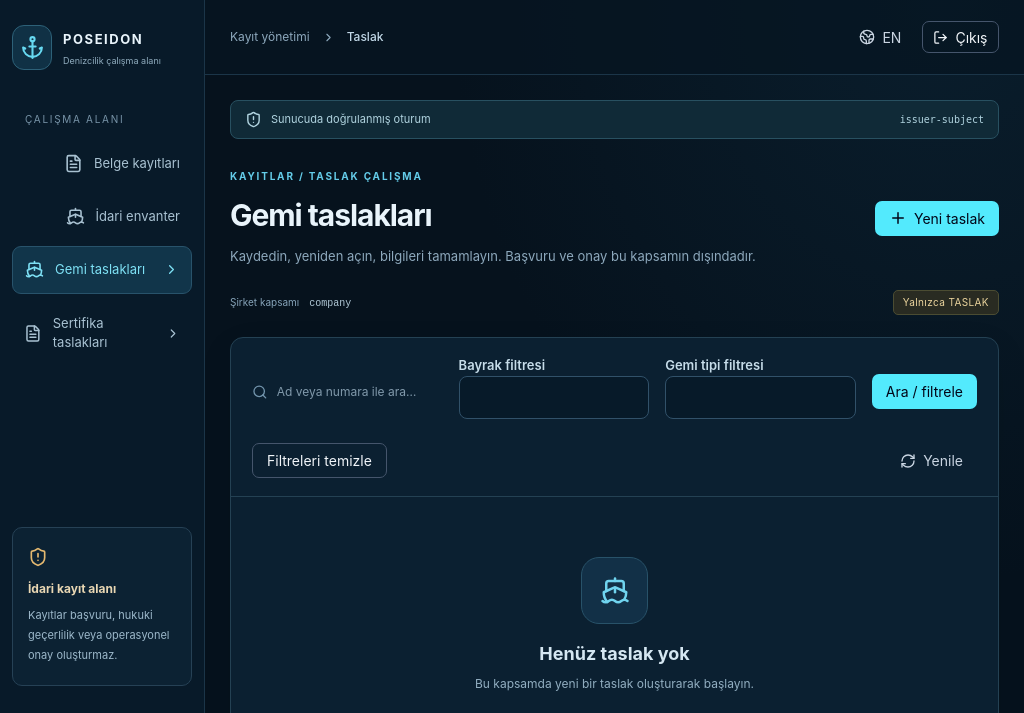
Scenario: BFF browser mode › does not clear edits or claim logout success on a network failure
Expected: the heading "Henüz taslak yok" is shown, [539, 643, 690, 664]
Click the button "Yeni taslak" at (937, 218), box [875, 201, 999, 236]
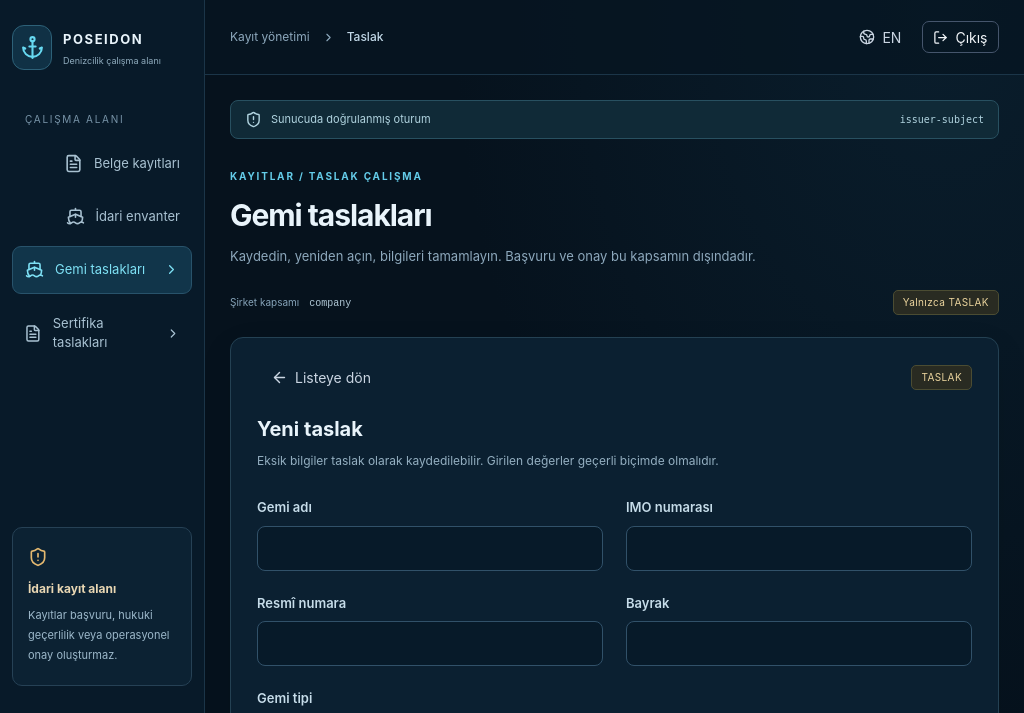
Type "Unsaved BFF" into the field labelled "Gemi adı" at (430, 548), box [257, 526, 603, 571]
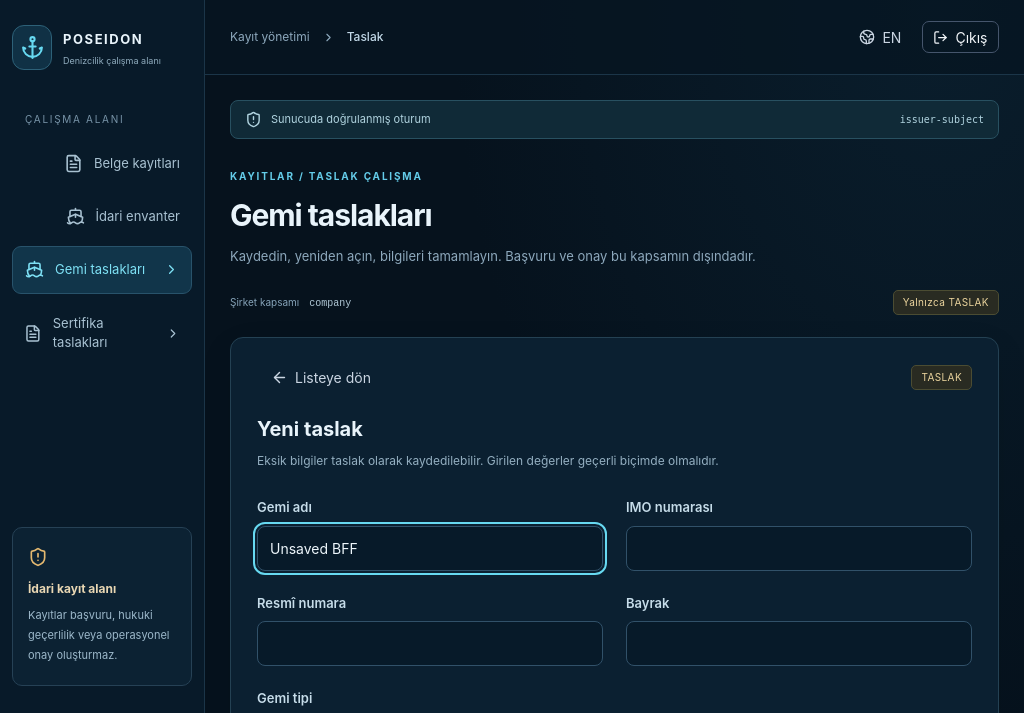
Click the button "Çıkış" at (960, 37), box [922, 21, 999, 53]
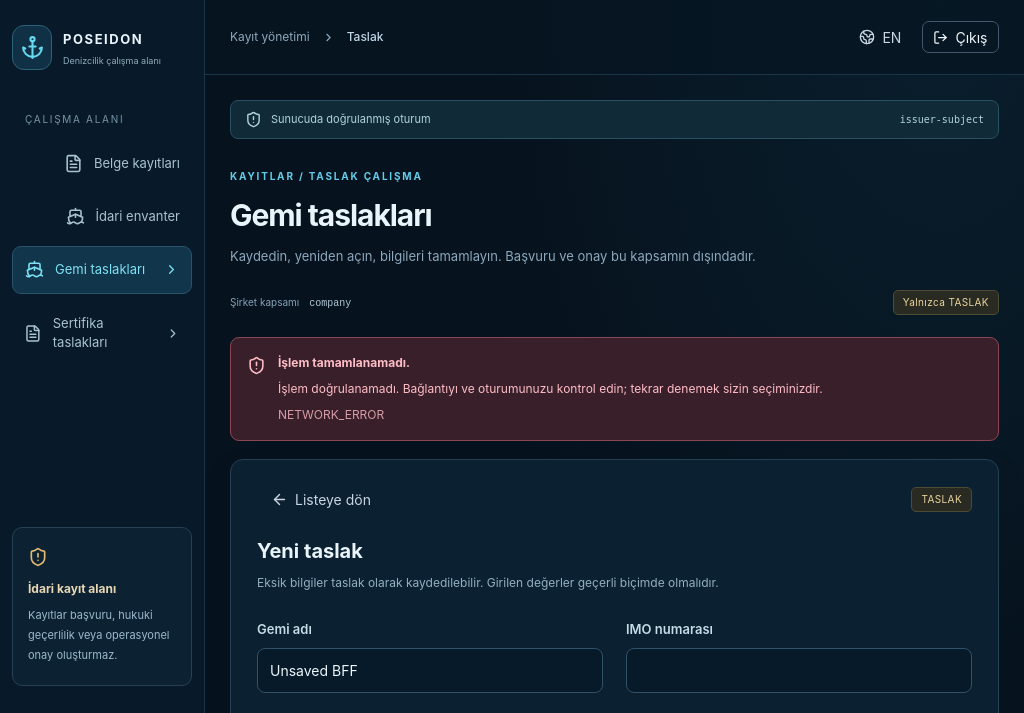
Now the message is shown, box [230, 337, 999, 441]
